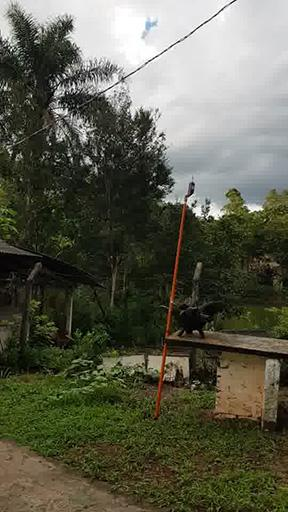Detector_Tensao_Contato: (186, 175, 195, 198)
Vara_Manobra: (154, 198, 187, 419)
